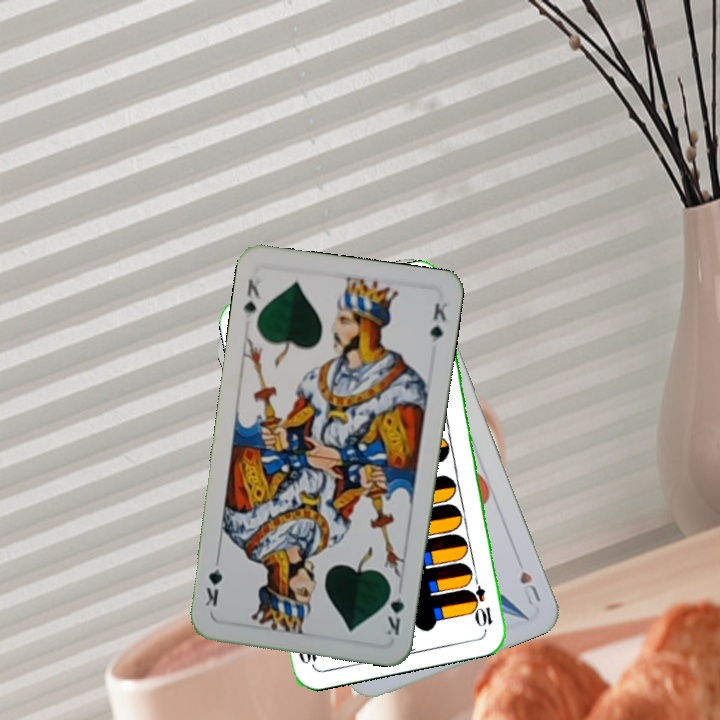E10: (468, 570, 495, 629)
GK: (381, 581, 407, 638), (239, 275, 263, 321)
HU: (515, 567, 543, 608)
